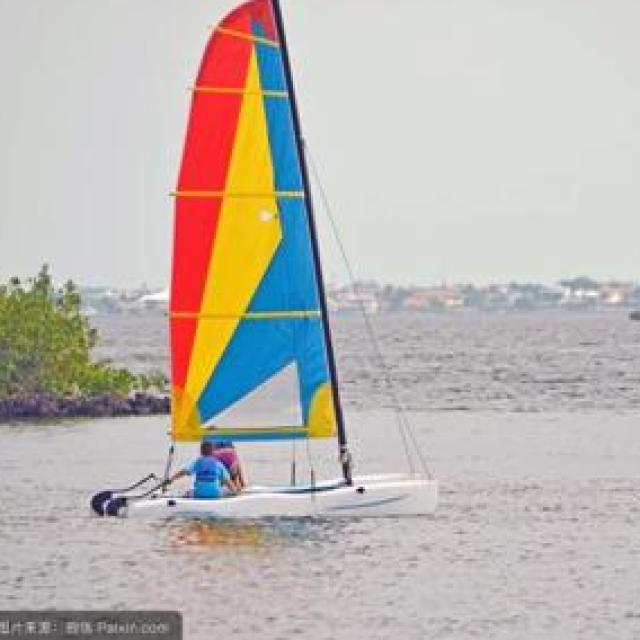sailboat: (86, 0, 426, 521)
